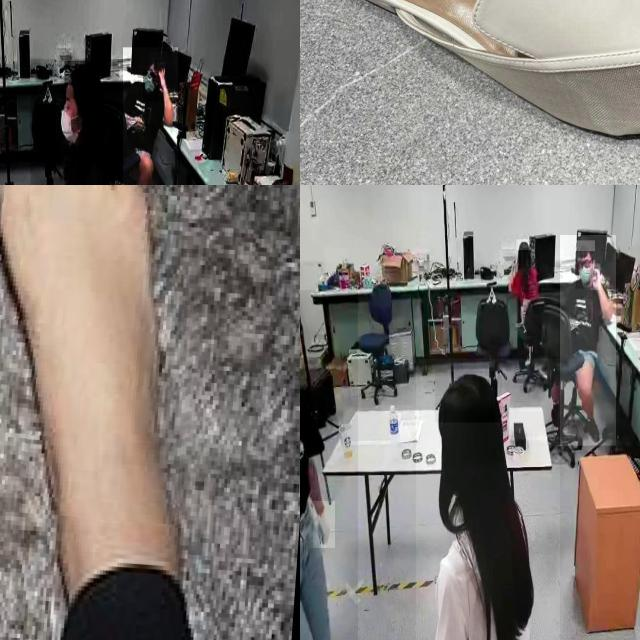Barefoots: (0, 185, 217, 523)
Sandals: (300, 0, 640, 148)
face_mask: (56, 99, 82, 144), (575, 260, 593, 288), (143, 72, 159, 102)
hand_glove: (313, 501, 335, 548)
hand_noglove: (591, 263, 601, 291), (131, 115, 146, 133), (156, 62, 166, 86)
head_nohelmet: (435, 371, 503, 423), (65, 60, 102, 86), (149, 52, 169, 64), (576, 240, 596, 252), (516, 239, 530, 251)
person: (415, 358, 560, 640), (300, 290, 358, 640), (560, 235, 616, 447), (30, 59, 119, 185), (123, 47, 178, 185)
shoes: (584, 412, 602, 446)
